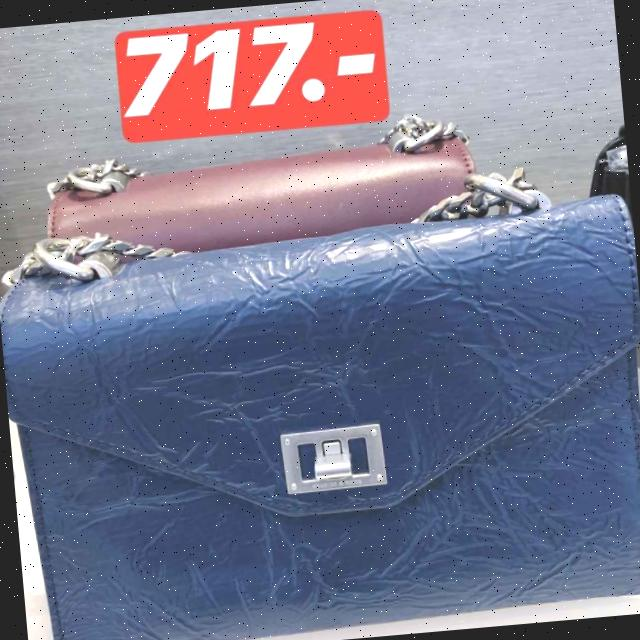Handbag: (0, 143, 640, 640)
